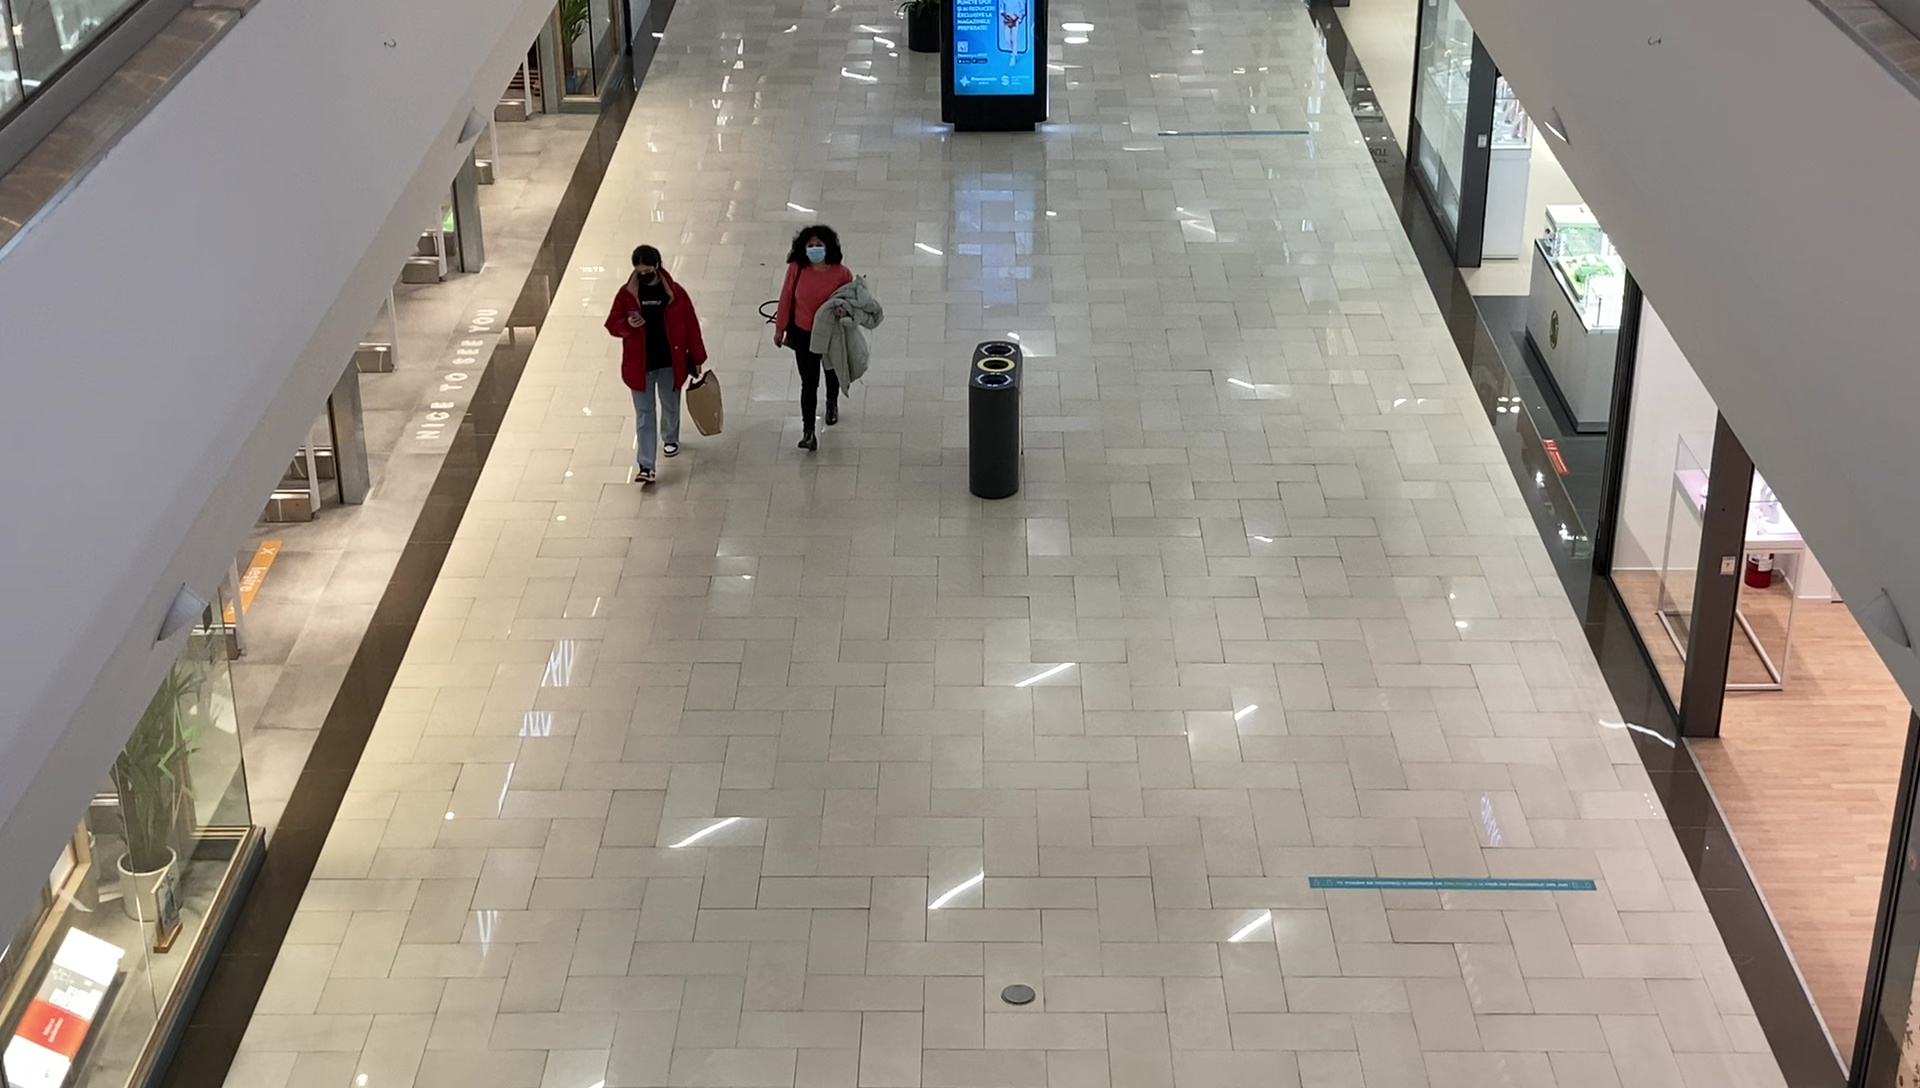person: (771, 225, 885, 450), (605, 246, 708, 485)
